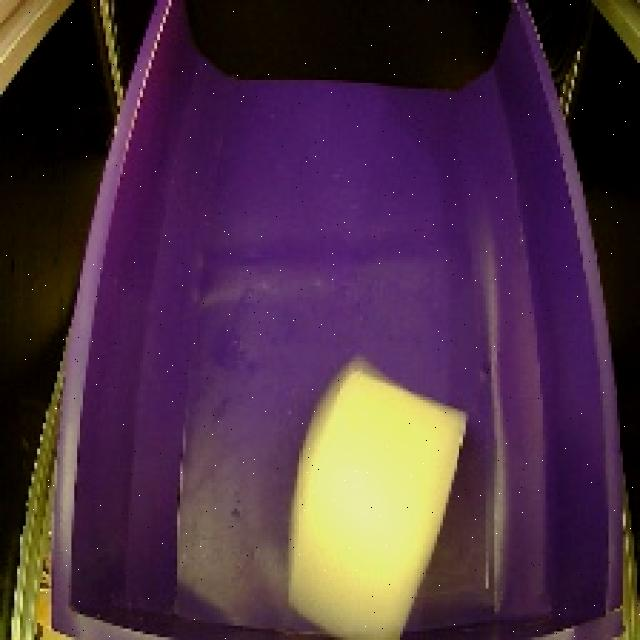white_radish: (280, 346, 477, 640)
